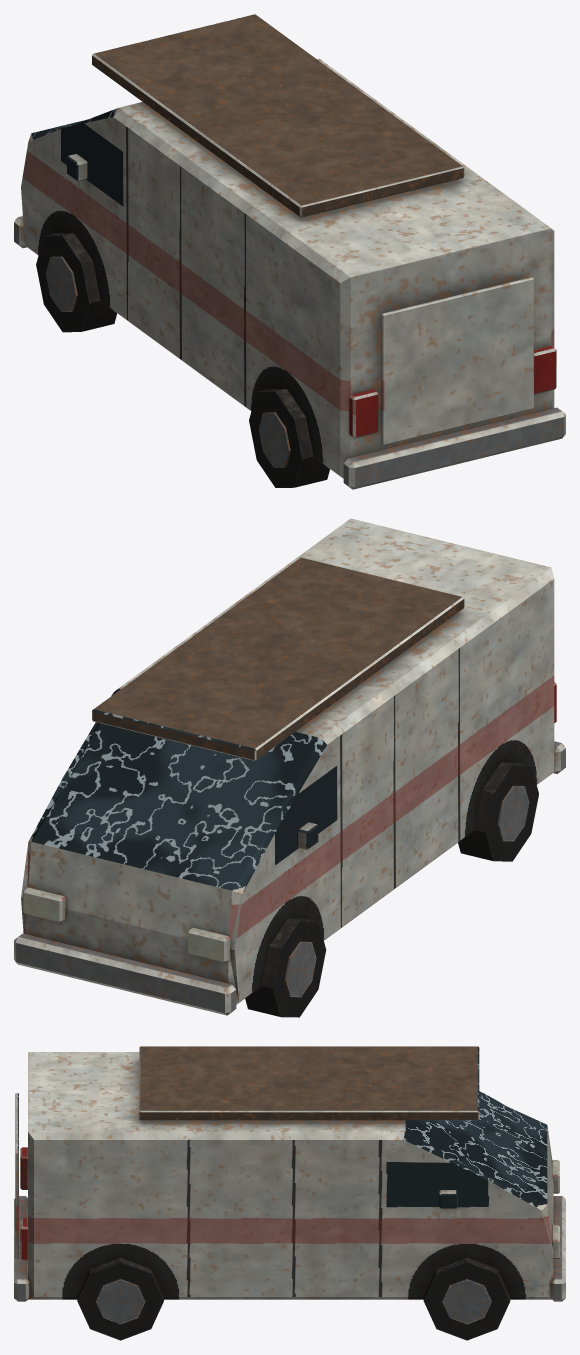
Rendered from Furgoneta_Blanca.glb.
The picture shows the model from 3 angles, top to bottom: view 1: azimuth 30°, elevation 25°; view 2: azimuth 150°, elevation 25°; view 3: azimuth 270°, elevation 25°; orthographic projection. The views are drawn at different scales.
Visible parts, largest first — view 1: Furgoneta_Blanca; view 2: Furgoneta_Blanca; view 3: Furgoneta_Blanca.
Part boxes in pixels (x1,y1,x2,y2): Furgoneta_Blanca: [14, 14, 565, 489]; Furgoneta_Blanca: [14, 518, 565, 1017]; Furgoneta_Blanca: [14, 1046, 565, 1340].
Size of the model in its own units: 7.35 by 7.68 by 17.85.
Materials: 1 (1 with a texture image).
